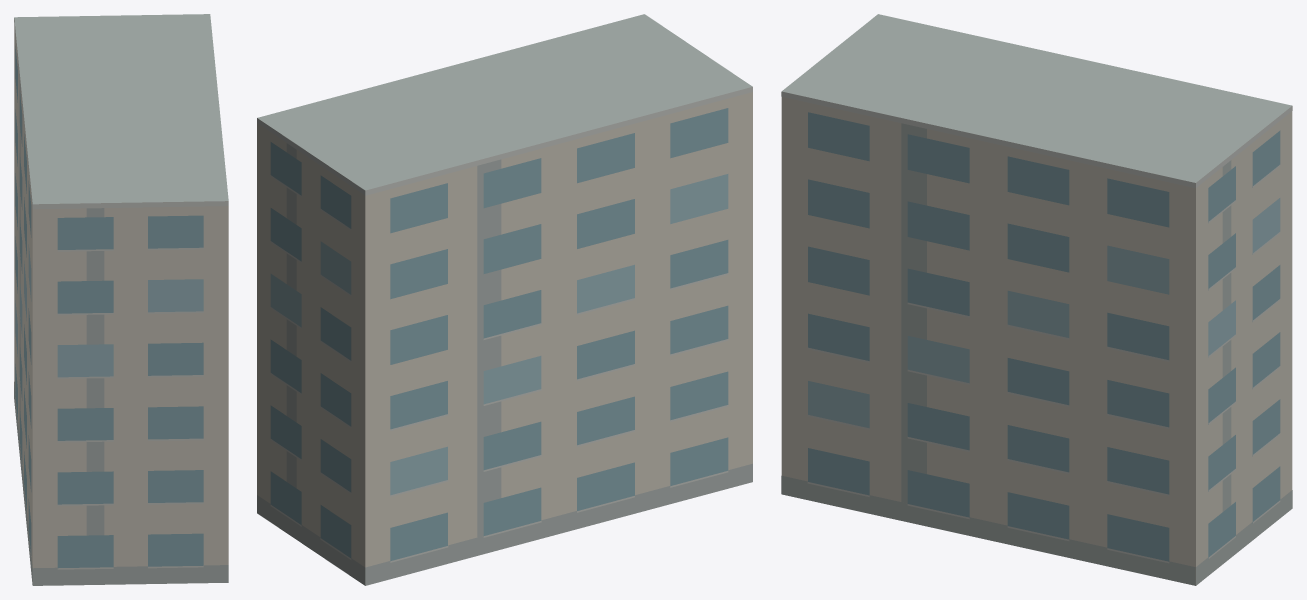
The model's file is survey-upis-32943383.glb.
The picture shows the model from 3 angles, left to right: view 1: azimuth 30°, elevation 25°; view 2: azimuth 150°, elevation 25°; view 3: azimuth 270°, elevation 25°; orthographic projection. The views are drawn at different scales.
Parts seen in each view (by area): view 1: survey-upis-32943383.tmp; view 2: survey-upis-32943383.tmp; view 3: survey-upis-32943383.tmp.
Boxes of the visible parts, x1,y1,x2,y2 form: survey-upis-32943383.tmp: [14, 14, 228, 585]; survey-upis-32943383.tmp: [257, 14, 752, 585]; survey-upis-32943383.tmp: [781, 14, 1292, 585].
Size of the model in its own units: 16.65 by 18.5 by 21.27.
